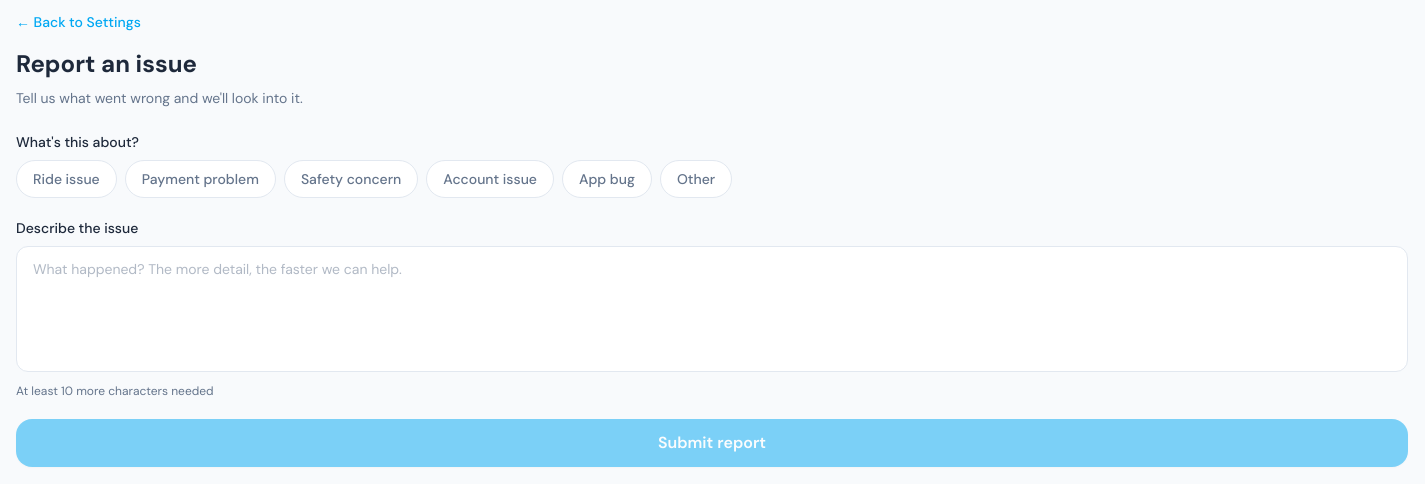
Test: ReportIssuePage › submit button is enabled with category and valid description
This screenshot has width=1425, height=484.
Click the button with test id "category-ride" at (66, 179), box x1=16 y1=160 x2=117 y2=198
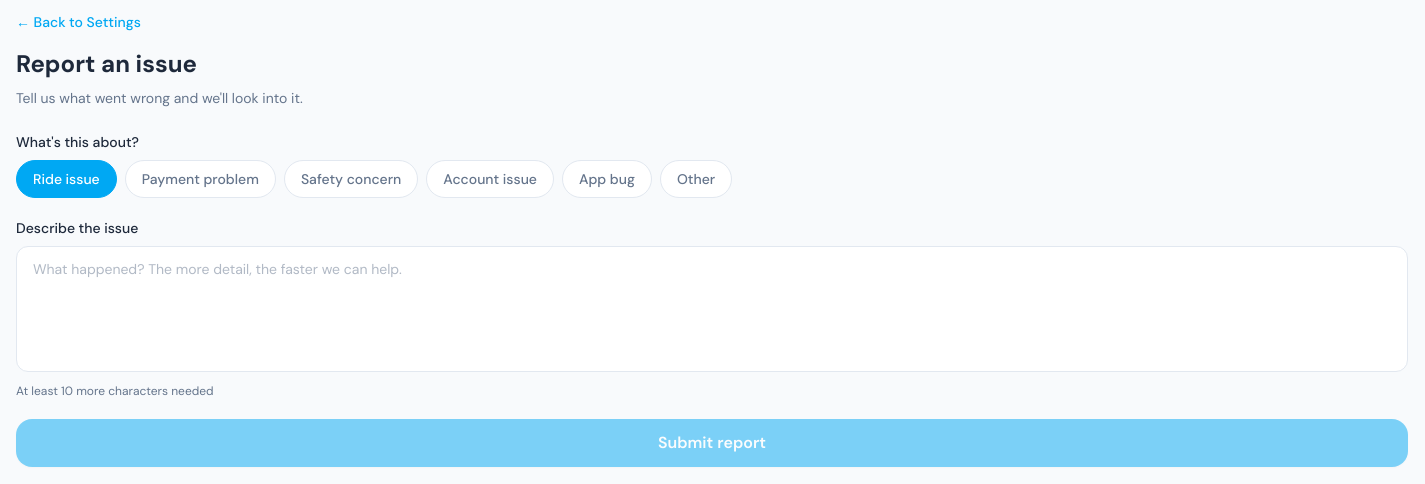
Type "The driver never showed up at pickup." into the text box with test id "description-input" at (712, 309), box x1=16 y1=246 x2=1408 y2=372
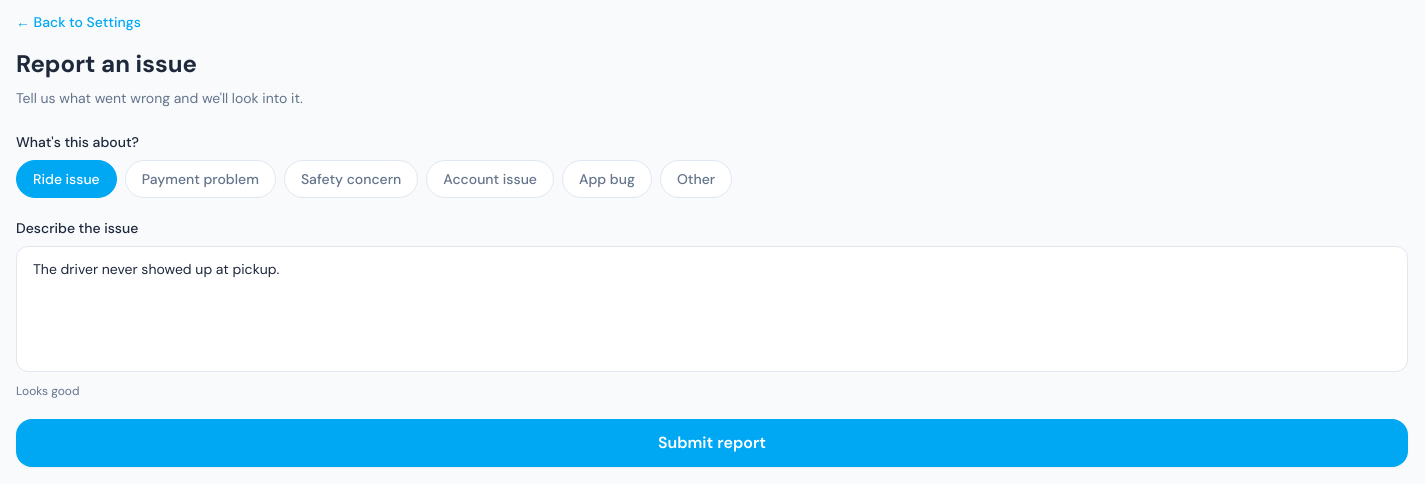
Now the button with test id "submit-button" is enabled, box x1=16 y1=419 x2=1408 y2=467
